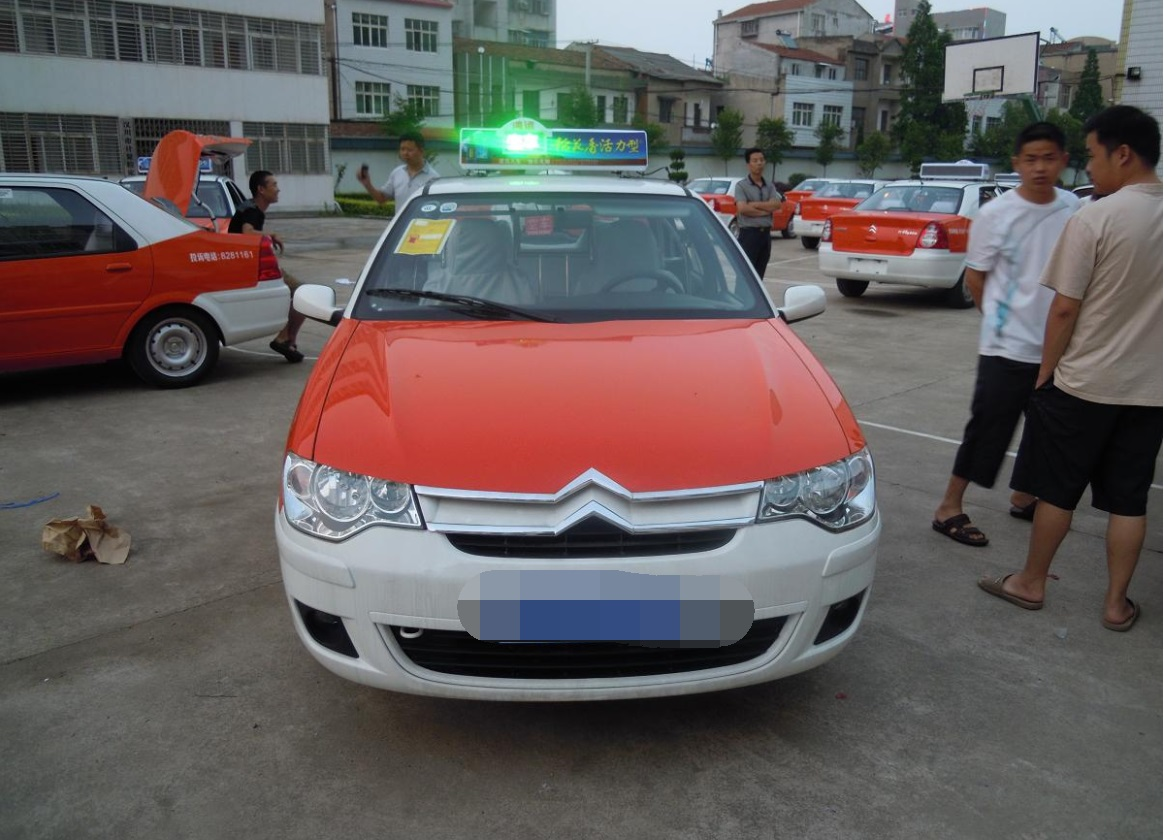taxi: (269, 100, 883, 716)
